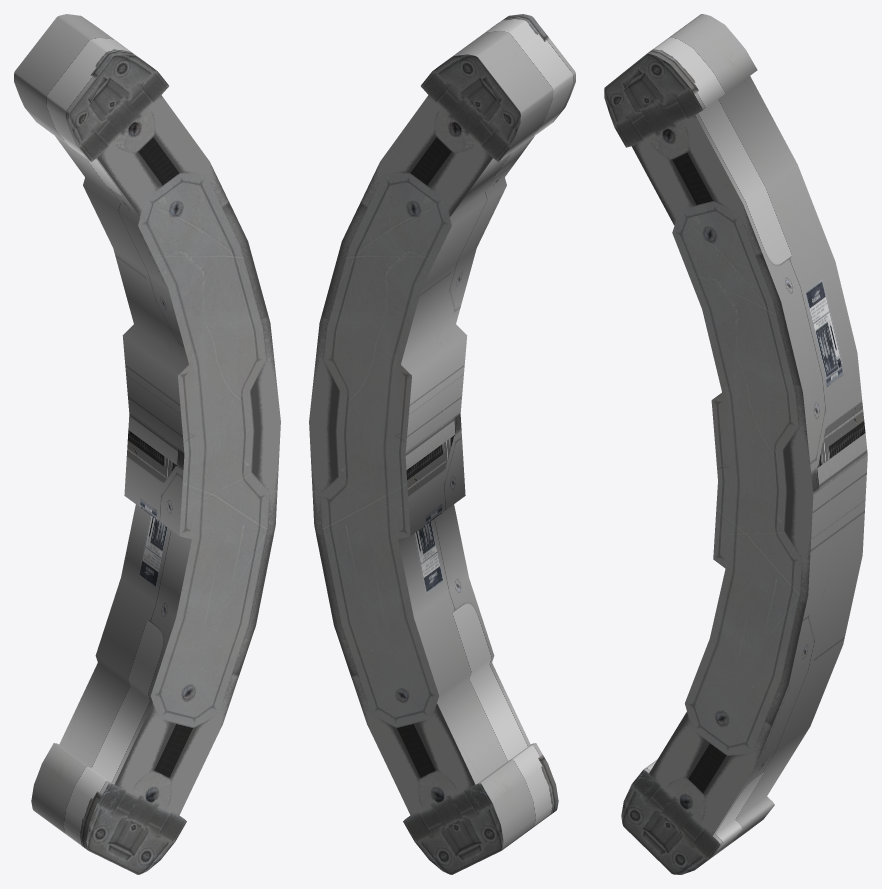
Rendered from SM_PillarS03cc2.fbx.
The picture shows the model from 3 angles, left to right: view 1: azimuth 30°, elevation 25°; view 2: azimuth 150°, elevation 25°; view 3: azimuth 330°, elevation 25°; orthographic projection.
Parts seen in each view (by area): view 1: SM_PillarS03cc2_LOD0; view 2: SM_PillarS03cc2_LOD0; view 3: SM_PillarS03cc2_LOD0.
Part boxes in pixels (left/top/right/bottom): SM_PillarS03cc2_LOD0: left=14, top=14, right=280, bottom=874; SM_PillarS03cc2_LOD0: left=309, top=14, right=575, bottom=874; SM_PillarS03cc2_LOD0: left=604, top=14, right=867, bottom=874.
Size of the model in its own units: 91 by 41 by 339.
Materials: 2 (2 with a texture image).
